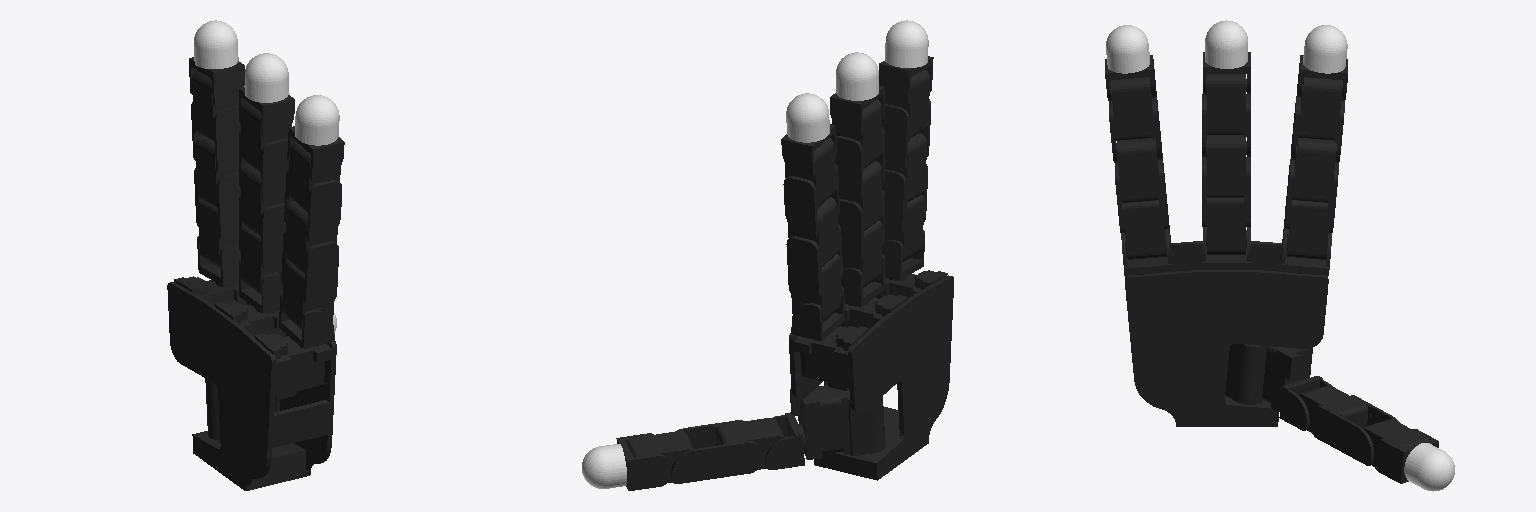
URDF robot description (allegro_hand_right):
<?xml version="1.0" ?>
<!-- =================================================================================== -->
<!-- |    This document was autogenerated by xacro from allegro_hand_description_right.xacro | -->
<!-- |    EDITING THIS FILE BY HAND IS NOT RECOMMENDED                                 | -->
<!-- =================================================================================== -->
<robot name="allegro_hand_right" xmlns:xacro="http://www.ros.org/wiki/xacro">
  <!--
rosrun xacro xacro.py allegro_hand_description_right.urdf.xacro > allegro_hand_description_right.urdf
roslaunch launchers/fuerte/allegro_hand_jgui_right_virtual.launch 
-->
  <!-- ======================== BASE PARAMS ========================= -->
  <!-- ======================== FINGER PARAMS ======================== -->
  <!-- full height from joint to tip. when used,
the radius of the finger tip sphere will be subtracted
and one fixed link will be added for the tip. -->
  <!--0.0435,   0.044981-->
  <!--0.002298-->
  <!--0.002298-->
  <!-- ========================= THUMB PARAMS ========================= -->
  <!-- ========================= LIMITS ========================= -->
  <!-- ============================================================================= -->
  <!-- ============================================================================= -->
  <!-- ============================================================================= -->
  <!-- BASE -->
  <link name="base_link">
    <visual>
      <geometry>
        <mesh filename="package://allegro_hand_description/meshes/base_link.obj"/>
      </geometry>
      <!-- LEFT -->
      <!-- <origin rpy="${-90*DEG2RAD} 0 0" xyz="0 0 0 "/> -->
      <!-- RIGHT -->
      <origin rpy="0 0 0" xyz="0 0 0 "/>
      <material name="black">
        <color rgba="0.2 0.2 0.2 1"/>
      </material>
    </visual>
    <collision>
      <origin rpy="0 0 0" xyz="-0.009300 0 -0.0475"/>
      <geometry>
        <box size="0.0408 0.1130 0.095"/>
      </geometry>
    </collision>
  </link>
  <!-- ============================================================================= -->
  <!-- FINGERS -->
  <!-- RIGHT HAND due to which finger is number 0 -->
  <!-- for LEFT HAND switch the sign of the **offset_origin_y** and **finger_angle_r** parameters-->
  <link name="link_0.0">
    <visual>
      <geometry>
        <mesh filename="package://allegro_hand_description/meshes/link_0.0.obj"/>
      </geometry>
      <material name="black"/>
    </visual>
    <collision>
      <geometry>
        <box size="0.0196 0.0275 0.0164"/>
      </geometry>
      <origin rpy="0 0 0" xyz="0 0 0.0082"/>
    </collision>
  </link>
  <joint name="joint_0.0" type="revolute">
    <axis xyz="0 0 1"/>
    <limit effort="0" lower="-0.47" upper="0.47" velocity="0"/>
    <parent link="base_link"/>
    <child link="link_0.0"/>
    <origin rpy="-0.08726646255 0 0" xyz="0 0.0435 -0.001542"/>
  </joint>
  <link name="link_1.0">
    <visual>
      <geometry>
        <mesh filename="package://allegro_hand_description/meshes/link_1.0.obj"/>
      </geometry>
      <material name="black"/>
    </visual>
    <collision>
      <geometry>
        <box size="0.0196 0.0275 0.054"/>
      </geometry>
      <origin rpy="0 0 0" xyz="0 0 0.027"/>
    </collision>
  </link>
  <joint name="joint_1.0" type="revolute">
    <limit effort="0" lower="-0.196" upper="1.61" velocity="0"/>
    <axis xyz="0 1 0"/>
    <parent link="link_0.0"/>
    <child link="link_1.0"/>
    <origin xyz="0 0 0.0164"/>
  </joint>
  <link name="link_2.0">
    <visual>
      <geometry>
        <mesh filename="package://allegro_hand_description/meshes/link_2.0.obj"/>
      </geometry>
      <material name="black"/>
    </visual>
    <collision>
      <geometry>
        <box size="0.0196 0.0275 0.0384"/>
      </geometry>
      <origin rpy="0 0 0" xyz="0 0 0.0192"/>
    </collision>
  </link>
  <joint name="joint_2.0" type="revolute">
    <axis xyz="0 1 0"/>
    <limit effort="0" lower="-0.174" upper="1.709" velocity="0"/>
    <parent link="link_1.0"/>
    <child link="link_2.0"/>
    <origin xyz="0 0 0.054"/>
  </joint>
  <link name="link_3.0">
    <visual>
      <geometry>
        <mesh filename="package://allegro_hand_description/meshes/link_3.0.obj"/>
      </geometry>
      <material name="black"/>
    </visual>
    <collision>
      <geometry>
        <box size="0.0196 0.0275 0.0267"/>
      </geometry>
      <origin rpy="0 0 0" xyz="0 0 0.01335"/>
    </collision>
  </link>
  <joint name="joint_3.0" type="revolute">
    <axis xyz="0 1 0"/>
    <limit effort="0" lower="-0.227" upper="1.618" velocity="0"/>
    <parent link="link_2.0"/>
    <child link="link_3.0"/>
    <origin xyz="0 0 0.0384"/>
  </joint>
  <link name="link_3.0_tip">
    <visual>
      <geometry>
        <mesh filename="package://allegro_hand_description/meshes/link_3.0_tip.obj"/>
      </geometry>
      <material name="white">
        <color rgba=".9 .9 .9 1"/>
      </material>
    </visual>
    <collision>
      <geometry>
        <sphere radius="0.012"/>
      </geometry>
    </collision>
  </link>
  <joint name="joint_3.0_tip" type="fixed">
    <parent link="link_3.0"/>
    <child link="link_3.0_tip"/>
    <origin rpy="0 0 0" xyz="0 0 0.0267"/>
  </joint>
  <link name="link_4.0">
    <visual>
      <geometry>
        <mesh filename="package://allegro_hand_description/meshes/link_0.0.obj"/>
      </geometry>
      <material name="black"/>
    </visual>
    <collision>
      <geometry>
        <box size="0.0196 0.0275 0.0164"/>
      </geometry>
      <origin rpy="0 0 0" xyz="0 0 0.0082"/>
    </collision>
  </link>
  <joint name="joint_4.0" type="revolute">
    <axis xyz="0 0 1"/>
    <limit effort="0" lower="-0.47" upper="0.47" velocity="0"/>
    <parent link="base_link"/>
    <child link="link_4.0"/>
    <origin rpy="0.0 0 0" xyz="0 0 0.0007"/>
  </joint>
  <link name="link_5.0">
    <visual>
      <geometry>
        <mesh filename="package://allegro_hand_description/meshes/link_1.0.obj"/>
      </geometry>
      <material name="black"/>
    </visual>
    <collision>
      <geometry>
        <box size="0.0196 0.0275 0.054"/>
      </geometry>
      <origin rpy="0 0 0" xyz="0 0 0.027"/>
    </collision>
  </link>
  <joint name="joint_5.0" type="revolute">
    <limit effort="0" lower="-0.196" upper="1.61" velocity="0"/>
    <axis xyz="0 1 0"/>
    <parent link="link_4.0"/>
    <child link="link_5.0"/>
    <origin xyz="0 0 0.0164"/>
  </joint>
  <link name="link_6.0">
    <visual>
      <geometry>
        <mesh filename="package://allegro_hand_description/meshes/link_2.0.obj"/>
      </geometry>
      <material name="black"/>
    </visual>
    <collision>
      <geometry>
        <box size="0.0196 0.0275 0.0384"/>
      </geometry>
      <origin rpy="0 0 0" xyz="0 0 0.0192"/>
    </collision>
  </link>
  <joint name="joint_6.0" type="revolute">
    <axis xyz="0 1 0"/>
    <limit effort="0" lower="-0.174" upper="1.709" velocity="0"/>
    <parent link="link_5.0"/>
    <child link="link_6.0"/>
    <origin xyz="0 0 0.054"/>
  </joint>
  <link name="link_7.0">
    <visual>
      <geometry>
        <mesh filename="package://allegro_hand_description/meshes/link_3.0.obj"/>
      </geometry>
      <material name="black"/>
    </visual>
    <collision>
      <geometry>
        <box size="0.0196 0.0275 0.0267"/>
      </geometry>
      <origin rpy="0 0 0" xyz="0 0 0.01335"/>
    </collision>
  </link>
  <joint name="joint_7.0" type="revolute">
    <axis xyz="0 1 0"/>
    <limit effort="0" lower="-0.227" upper="1.618" velocity="0"/>
    <parent link="link_6.0"/>
    <child link="link_7.0"/>
    <origin xyz="0 0 0.0384"/>
  </joint>
  <link name="link_7.0_tip">
    <visual>
      <geometry>
        <mesh filename="package://allegro_hand_description/meshes/link_3.0_tip.obj"/>
      </geometry>
      <material name="white">
        <color rgba=".9 .9 .9 1"/>
      </material>
    </visual>
    <collision>
      <geometry>
        <sphere radius="0.012"/>
      </geometry>
    </collision>
  </link>
  <joint name="joint_7.0_tip" type="fixed">
    <parent link="link_7.0"/>
    <child link="link_7.0_tip"/>
    <origin rpy="0 0 0" xyz="0 0 0.0267"/>
  </joint>
  <link name="link_8.0">
    <visual>
      <geometry>
        <mesh filename="package://allegro_hand_description/meshes/link_0.0.obj"/>
      </geometry>
      <material name="black"/>
    </visual>
    <collision>
      <geometry>
        <box size="0.0196 0.0275 0.0164"/>
      </geometry>
      <origin rpy="0 0 0" xyz="0 0 0.0082"/>
    </collision>
  </link>
  <joint name="joint_8.0" type="revolute">
    <axis xyz="0 0 1"/>
    <limit effort="0" lower="-0.47" upper="0.47" velocity="0"/>
    <parent link="base_link"/>
    <child link="link_8.0"/>
    <origin rpy="0.08726646255 0 0" xyz="0 -0.0435 -0.001542"/>
  </joint>
  <link name="link_9.0">
    <visual>
      <geometry>
        <mesh filename="package://allegro_hand_description/meshes/link_1.0.obj"/>
      </geometry>
      <material name="black"/>
    </visual>
    <collision>
      <geometry>
        <box size="0.0196 0.0275 0.054"/>
      </geometry>
      <origin rpy="0 0 0" xyz="0 0 0.027"/>
    </collision>
  </link>
  <joint name="joint_9.0" type="revolute">
    <limit effort="0" lower="-0.196" upper="1.61" velocity="0"/>
    <axis xyz="0 1 0"/>
    <parent link="link_8.0"/>
    <child link="link_9.0"/>
    <origin xyz="0 0 0.0164"/>
  </joint>
  <link name="link_10.0">
    <visual>
      <geometry>
        <mesh filename="package://allegro_hand_description/meshes/link_2.0.obj"/>
      </geometry>
      <material name="black"/>
    </visual>
    <collision>
      <geometry>
        <box size="0.0196 0.0275 0.0384"/>
      </geometry>
      <origin rpy="0 0 0" xyz="0 0 0.0192"/>
    </collision>
  </link>
  <joint name="joint_10.0" type="revolute">
    <axis xyz="0 1 0"/>
    <limit effort="0" lower="-0.174" upper="1.709" velocity="0"/>
    <parent link="link_9.0"/>
    <child link="link_10.0"/>
    <origin xyz="0 0 0.054"/>
  </joint>
  <link name="link_11.0">
    <visual>
      <geometry>
        <mesh filename="package://allegro_hand_description/meshes/link_3.0.obj"/>
      </geometry>
      <material name="black"/>
    </visual>
    <collision>
      <geometry>
        <box size="0.0196 0.0275 0.0267"/>
      </geometry>
      <origin rpy="0 0 0" xyz="0 0 0.01335"/>
    </collision>
  </link>
  <joint name="joint_11.0" type="revolute">
    <axis xyz="0 1 0"/>
    <limit effort="0" lower="-0.227" upper="1.618" velocity="0"/>
    <parent link="link_10.0"/>
    <child link="link_11.0"/>
    <origin xyz="0 0 0.0384"/>
  </joint>
  <link name="link_11.0_tip">
    <visual>
      <geometry>
        <mesh filename="package://allegro_hand_description/meshes/link_3.0_tip.obj"/>
      </geometry>
      <material name="white">
        <color rgba=".9 .9 .9 1"/>
      </material>
    </visual>
    <collision>
      <geometry>
        <sphere radius="0.012"/>
      </geometry>
    </collision>
  </link>
  <joint name="joint_11.0_tip" type="fixed">
    <parent link="link_11.0"/>
    <child link="link_11.0_tip"/>
    <origin rpy="0 0 0" xyz="0 0 0.0267"/>
  </joint>
  <!-- THUMB -->
  <link name="link_12.0">
    <visual>
      <geometry>
        <!-- RIGHT -->
        <mesh filename="package://allegro_hand_description/meshes/link_12.0_right.obj"/>
        <!-- LEFT -->
        <!-- <mesh filename="package://allegro_hand_description/meshes/link_12.0_left.obj" /> -->
      </geometry>
      <material name="black">
        <color rgba=".2 .2 .2 1"/>
      </material>
    </visual>
    <collision>
      <geometry>
        <box size="0.0358 0.034 0.0455"/>
      </geometry>
      <!-- RIGHT -->
      <origin rpy="0 0 0" xyz="-0.0179 0.009 0.0145"/>
      <!-- LEFT -->
      <!-- <origin rpy="0 0 0" xyz="${-0.0358/2+0.0} ${-.018/2} ${.029/2}"/> -->
    </collision>
  </link>
  <joint name="joint_12.0" type="revolute">
    <axis xyz="-1 0 0"/>
    <limit effort="0" lower="0.263" upper="1.396" velocity="0"/>
    <parent link="base_link"/>
    <child link="link_12.0"/>
    <origin rpy="0 -1.65806278845 -1.5707963259" xyz="-0.0182 0.019333 -0.045987"/>
  </joint>
  <link name="link_13.0">
    <visual>
      <geometry>
        <mesh filename="package://allegro_hand_description/meshes/link_13.0.obj"/>
      </geometry>
      <material name="black">
        <color rgba=".2 .2 .2 1"/>
      </material>
    </visual>
    <collision>
      <geometry>
        <box size="0.0196 0.0275 0.0177"/>
      </geometry>
      <origin rpy="0 0 0" xyz="0 0 0.00885"/>
    </collision>
  </link>
  <joint name="joint_13.0" type="revolute">
    <axis xyz="0 0 1"/>
    <limit effort="0" lower="-0.105" upper="1.163" velocity="0"/>
    <parent link="link_12.0"/>
    <child link="link_13.0"/>
    <!-- RIGHT -->
    <origin xyz="-0.027 0.005 0.0399"/>
    <!-- LEFT -->
    <!-- <origin xyz="-0.027 -0.005 0.0399"/> -->
  </joint>
  <link name="link_14.0">
    <visual>
      <geometry>
        <mesh filename="package://allegro_hand_description/meshes/link_14.0.obj"/>
      </geometry>
      <material name="black">
		  	</material>
    </visual>
    <collision>
      <geometry>
        <box size="0.0196 0.0275 0.0514"/>
      </geometry>
      <origin rpy="0 0 0" xyz="0 0 0.0257"/>
    </collision>
  </link>
  <joint name="joint_14.0" type="revolute">
    <axis xyz="0 1 0"/>
    <limit effort="0" lower="-0.189" upper="1.644" velocity="0"/>
    <parent link="link_13.0"/>
    <child link="link_14.0"/>
    <origin xyz="0 0 0.0177"/>
  </joint>
  <link name="link_15.0">
    <visual>
      <geometry>
        <mesh filename="package://allegro_hand_description/meshes/link_15.0.obj"/>
      </geometry>
      <material name="black">
    	</material>
    </visual>
    <collision>
      <geometry>
        <box size="0.0196 0.0275 0.0423"/>
      </geometry>
      <origin rpy="0 0 0" xyz="0 0 0.02115"/>
    </collision>
  </link>
  <joint name="joint_15.0" type="revolute">
    <axis xyz="0 1 0"/>
    <limit effort="0" lower="-0.162" upper="1.719" velocity="0"/>
    <parent link="link_14.0"/>
    <child link="link_15.0"/>
    <origin xyz="0 0 0.0514"/>
  </joint>
  <link name="link_15.0_tip">
    <visual>
      <geometry>
        <mesh filename="package://allegro_hand_description/meshes/link_15.0_tip.obj"/>
      </geometry>
      <material name="white">
        <color rgba=".9 .9 .9 1"/>
      </material>
    </visual>
    <collision>
      <geometry>
        <sphere radius="0.012"/>
      </geometry>
      <origin rpy="0 0 0" xyz="0 0 0"/>
    </collision>
  </link>
  <joint name="joint_15.0_tip" type="fixed">
    <parent link="link_15.0"/>
    <child link="link_15.0_tip"/>
    <origin rpy="0 0 0" xyz="0 0 0.0423"/>
    <!--0.0267000000000005-->
  </joint>
  <!--
<xacro:thumb_left 
	finger_num=			"3" 
	offset_origin_x=	"-0.0182"	
	offset_origin_y=	"-0.019333" 
	offset_origin_z=	"-0.045987" 
	
	
	finger_angle_r=		"${90*DEG2RAD}"
	finger_angle_p=		"-${95*DEG2RAD}"	
	finger_angle_y=		"${90*DEG2RAD}"
/>
-->
  <!-- ============================================================================= -->
  <!-- ============================================================================= -->
  <!-- ============================================================================= -->
  <!-- THUMB MACRO -->
  <!-- END THUMB MACRO -->
  <!-- THREE FINGER MACRO -->
  <!-- [[END]] THREE FINGER MACRO -->
</robot>

--- Render facts (derived) ---
The picture shows the robot from 3 angles, left to right: view 1: azimuth 30°, elevation 25°; view 2: azimuth 150°, elevation 25°; view 3: azimuth 270°, elevation 25°; orthographic projection.
Model allegro_hand_right with 21 links and 20 joints (16 revolute, 4 fixed), rooted at base_link, posed joints at zero except 1 at the middle of their limits (joint_12.0 = 0.8295).
Visible links, largest first — view 1: base_link, link_9.0, link_1.0, link_5.0, link_10.0, link_2.0, link_6.0, link_11.0_tip, link_7.0_tip, link_3.0_tip, link_8.0, link_3.0 (+5 smaller); view 2: base_link, link_14.0, link_12.0, link_1.0, link_5.0, link_9.0, link_2.0, link_15.0, link_6.0, link_10.0, link_3.0_tip, link_7.0_tip (+9 smaller); view 3: base_link, link_1.0, link_9.0, link_5.0, link_12.0, link_14.0, link_2.0, link_10.0, link_6.0, link_15.0, link_15.0_tip, link_3.0_tip (+9 smaller).
Link boxes in pixels (left/top/right/bottom): base_link: left=167, top=276, right=336, bottom=490; link_9.0: left=281, top=201, right=338, bottom=329; link_1.0: left=194, top=136, right=240, bottom=267; link_5.0: left=239, top=164, right=285, bottom=294; link_10.0: left=284, top=141, right=341, bottom=244; link_2.0: left=191, top=71, right=240, bottom=174; link_6.0: left=239, top=101, right=291, bottom=205; link_11.0_tip: left=295, top=95, right=339, bottom=145; link_7.0_tip: left=245, top=53, right=288, bottom=102; link_3.0_tip: left=194, top=20, right=238, bottom=68; link_8.0: left=279, top=292, right=334, bottom=348; link_3.0: left=189, top=57, right=244, bottom=108; base_link: left=789, top=270, right=953, bottom=480; link_14.0: left=671, top=418, right=784, bottom=483; link_12.0: left=790, top=382, right=885, bottom=459; link_1.0: left=786, top=197, right=842, bottom=321; link_5.0: left=838, top=161, right=884, bottom=287; link_9.0: left=882, top=133, right=927, bottom=261; link_2.0: left=783, top=138, right=839, bottom=239; link_15.0: left=616, top=431, right=693, bottom=490; link_6.0: left=832, top=99, right=884, bottom=201; link_10.0: left=882, top=70, right=930, bottom=171; link_3.0_tip: left=786, top=93, right=829, bottom=142; link_7.0_tip: left=836, top=52, right=878, bottom=100; base_link: left=1125, top=241, right=1328, bottom=426; link_1.0: left=1284, top=138, right=1338, bottom=259; link_9.0: left=1115, top=138, right=1168, bottom=259; link_5.0: left=1202, top=135, right=1250, bottom=254; link_12.0: left=1225, top=344, right=1312, bottom=411; link_14.0: left=1299, top=385, right=1399, bottom=465; link_2.0: left=1291, top=77, right=1344, bottom=162; link_10.0: left=1109, top=77, right=1162, bottom=162; link_6.0: left=1202, top=74, right=1250, bottom=156; link_15.0: left=1362, top=419, right=1438, bottom=483; link_15.0_tip: left=1404, top=443, right=1454, bottom=491; link_3.0_tip: left=1303, top=25, right=1347, bottom=73.
Size in the robot's own frame: 0.1383 by 0.1948 by 0.2432 metres.
21 mesh visuals loaded from 11 distinct referenced files (11 OBJ).